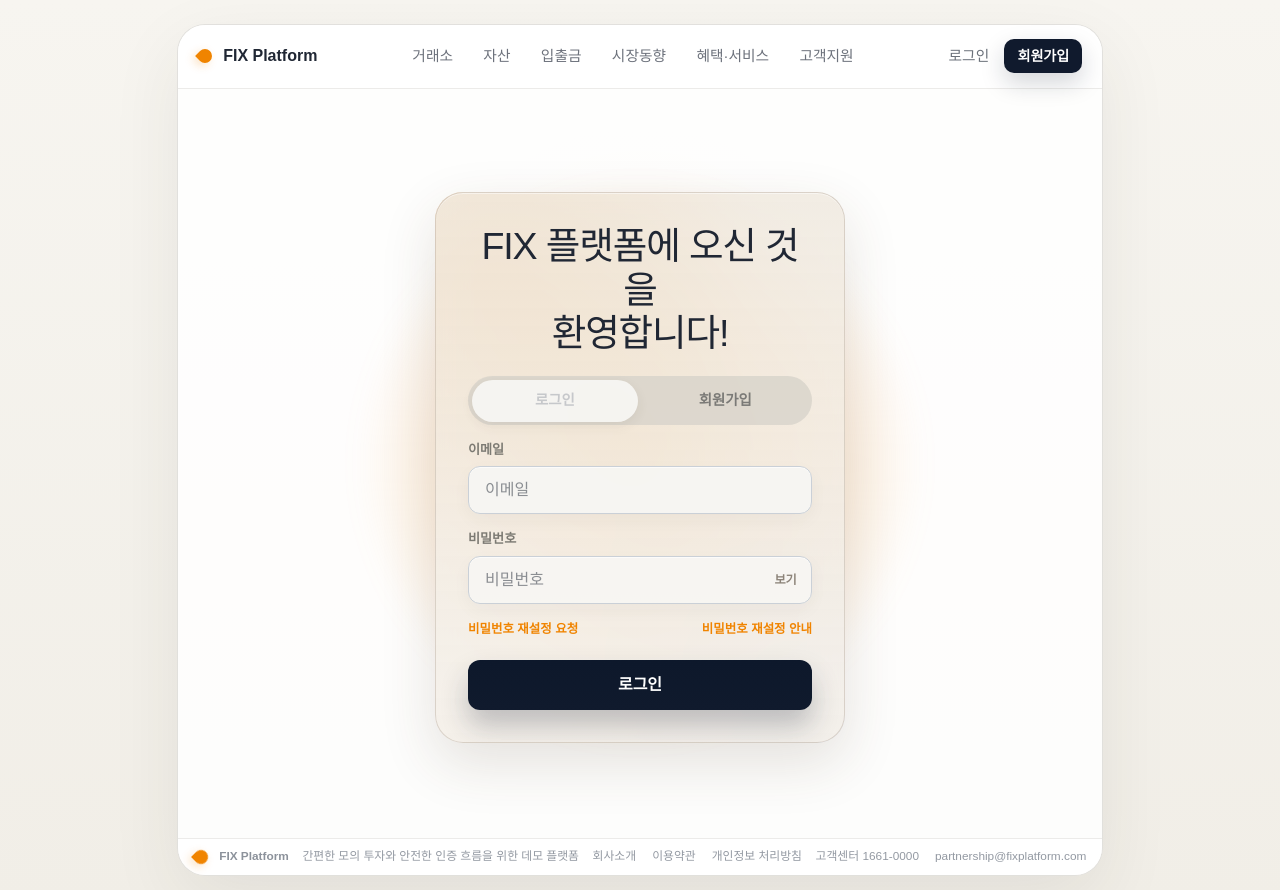
Scenario: App auth flow › navigates to the protected area after successful login
The width and height of the screenshot is (1280, 890).
Type "demo@fix.com" into the field with test id "login-email" at point(640, 490), box 468,466 -> 812,514
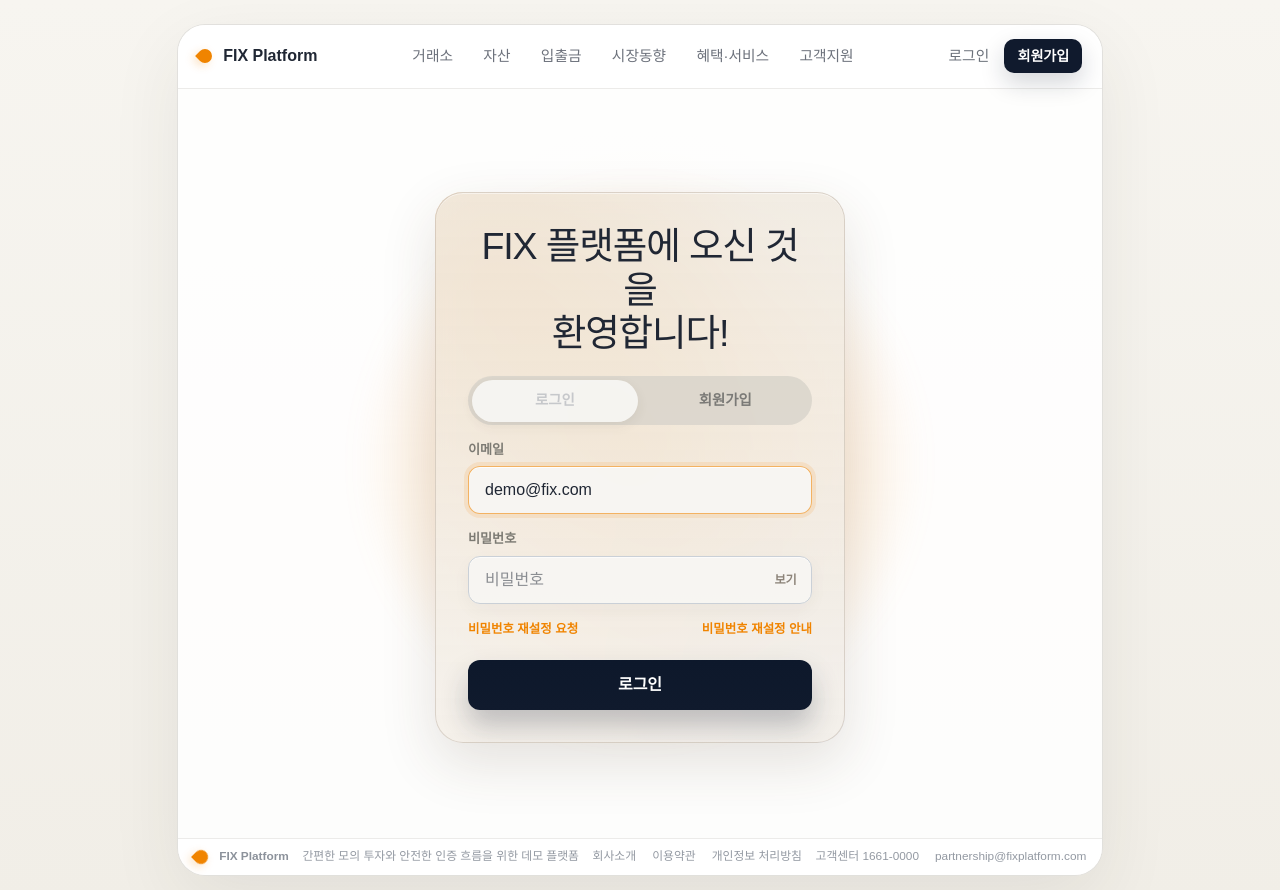
Type "Test1234!" into the password field with test id "login-password" at point(640, 580), box 468,556 -> 812,604
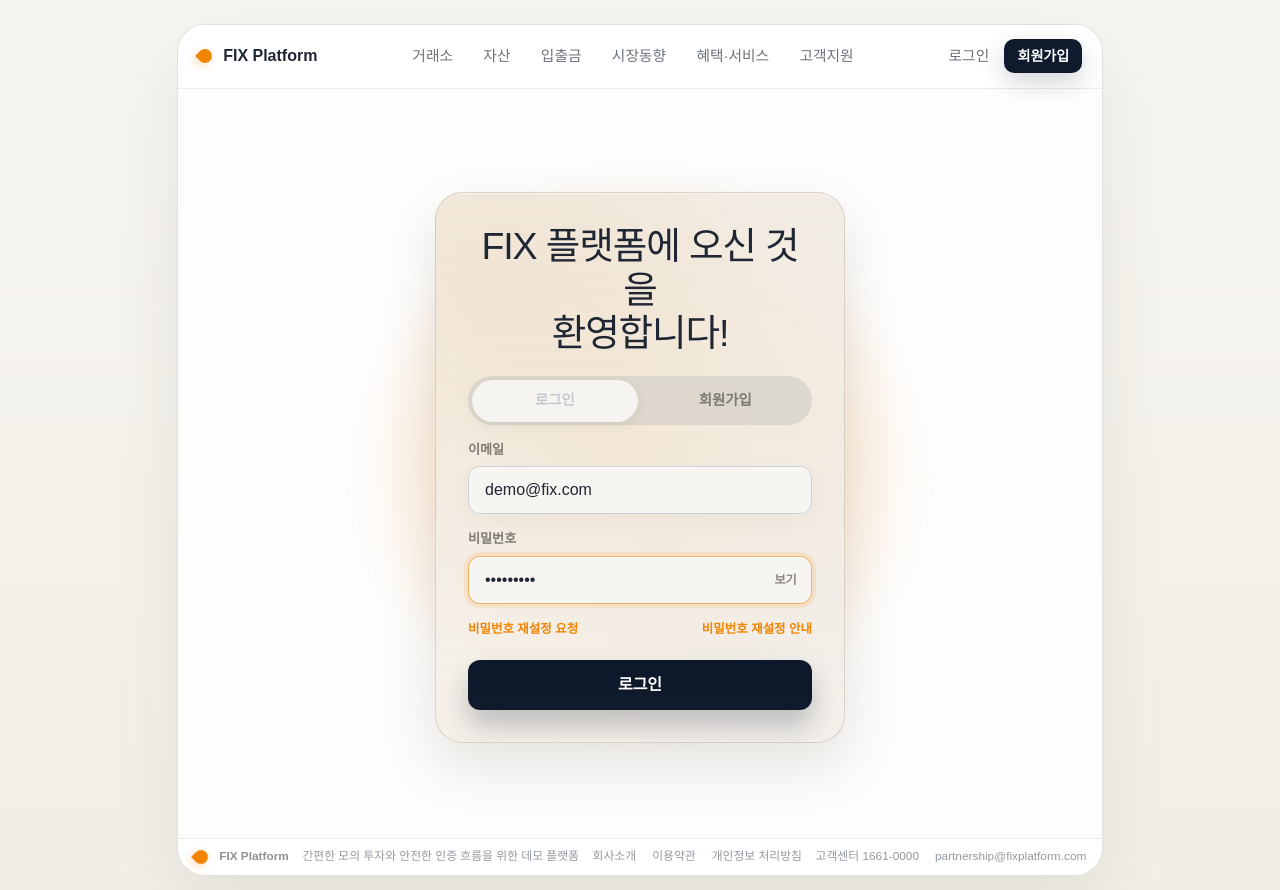
Click the button with test id "login-submit" at point(640, 685), box 468,660 -> 812,710
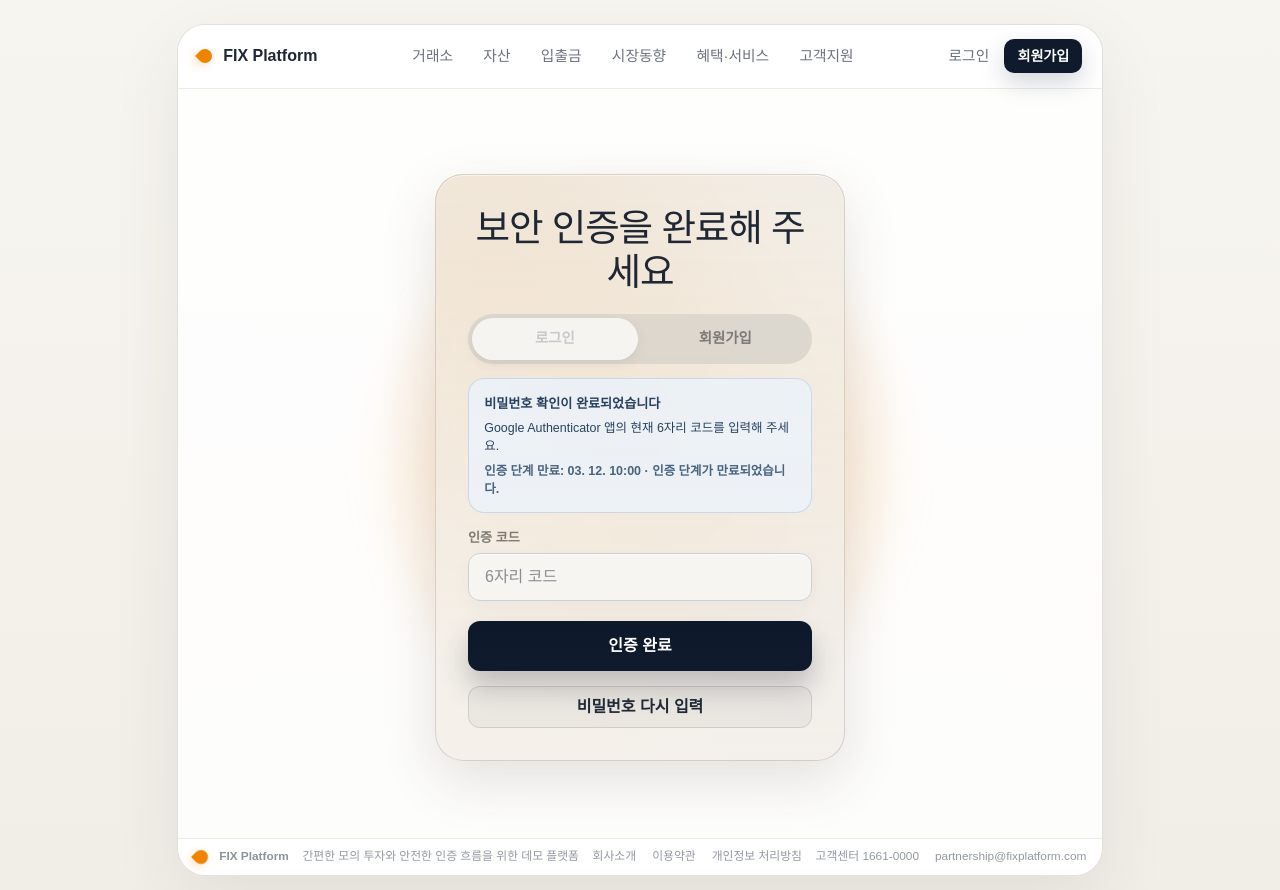
Type "123456" into the field with test id "login-mfa-input" at point(640, 577), box 468,553 -> 812,601
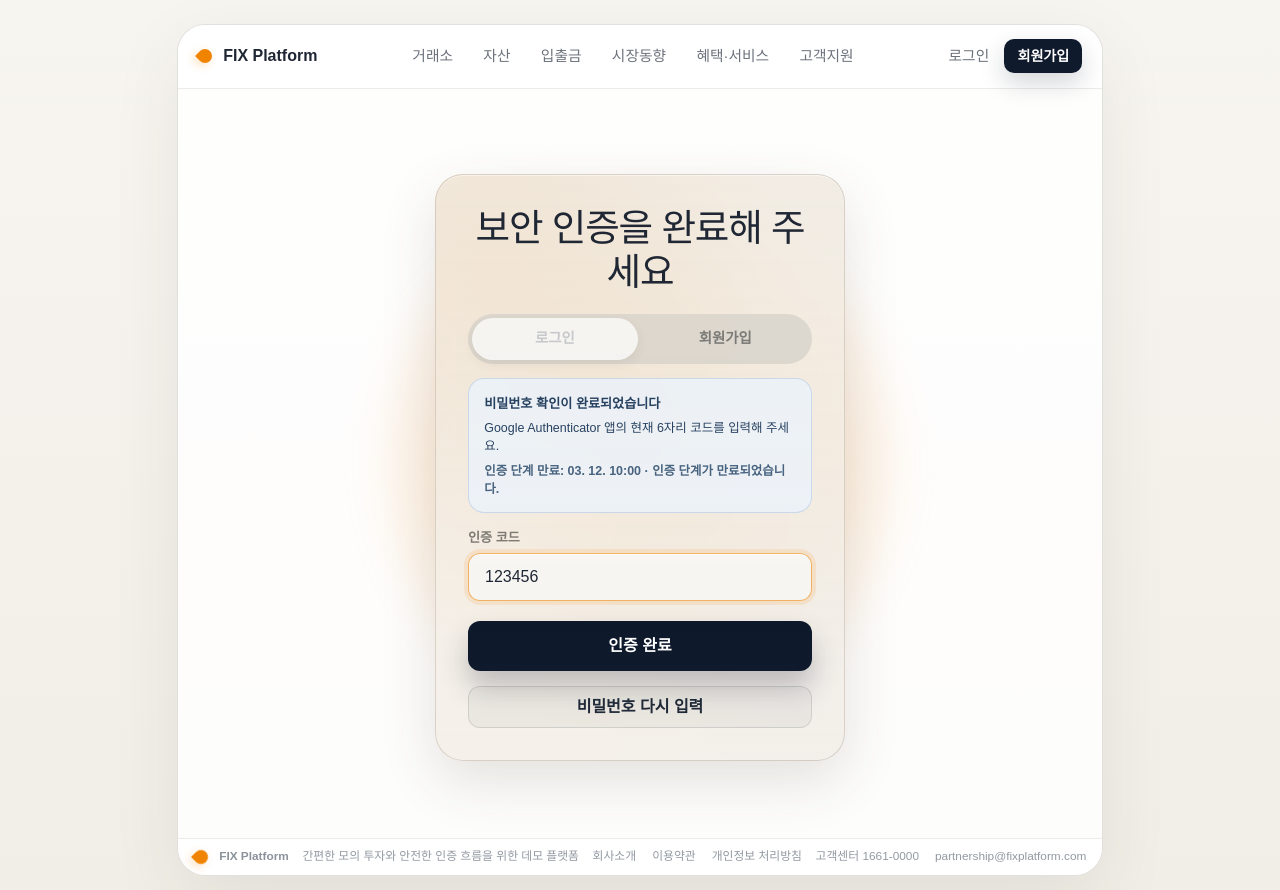
Click the button with test id "login-mfa-submit" at point(640, 646), box 468,621 -> 812,671
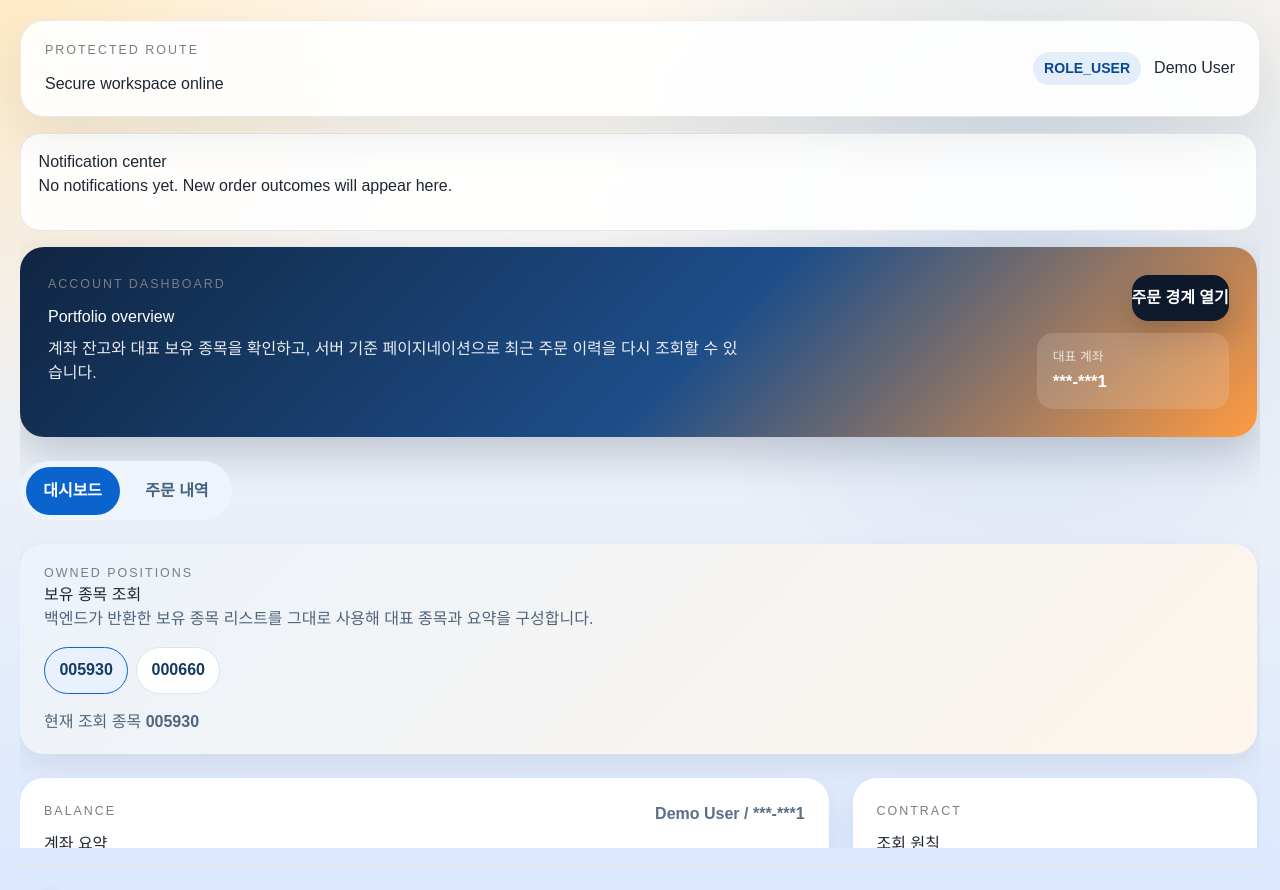
Check: the heading with test id "protected-area-title" reads "Portfolio overview", box 48,308 -> 174,325
